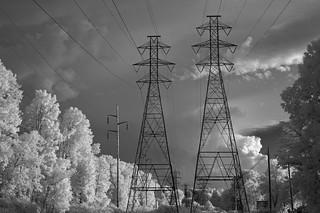power_tower: (183, 11, 257, 212), (129, 23, 178, 213)
